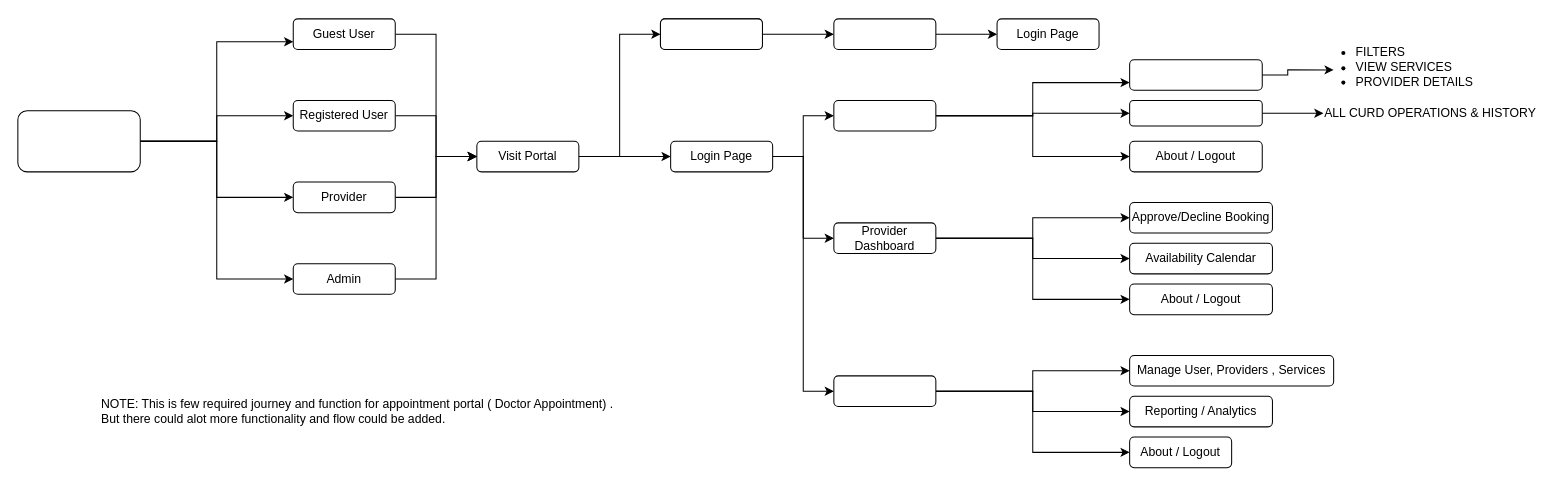
The diagram is 1556 pixels wide and 486 high, and some of its shapes have lost their labels. Here are the shapes that lost their labels. From the top down, the centre of each, then its label:
pixel 710 33: Sign-up Page
pixel 884 33: Validate User Profile
pixel 1195 74: Booking
pixel 884 115: User Dashboard
pixel 1195 112: View Bookings
pixel 78 141: Personas
pixel 884 390: Admin Dashboard
